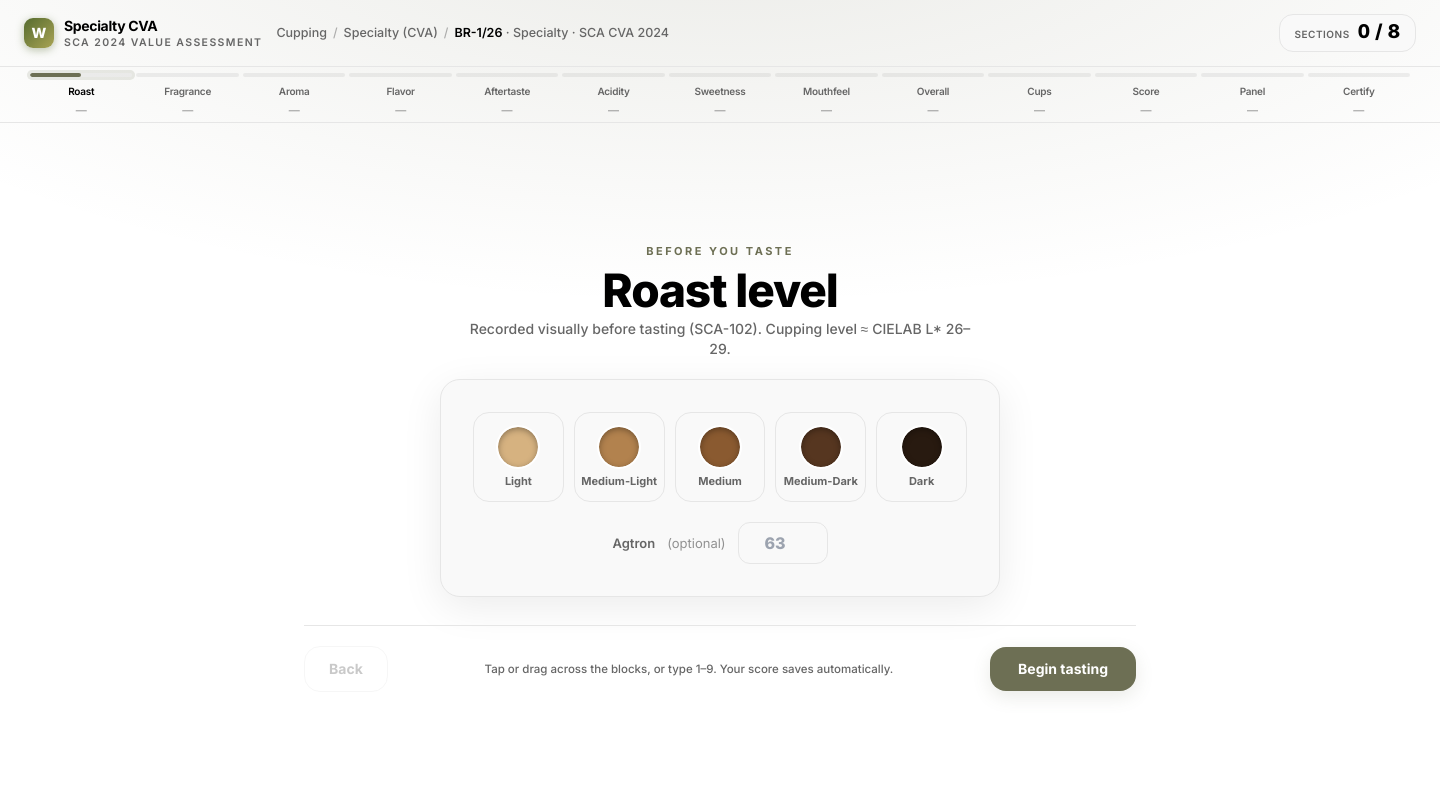
Test case: CvaJourney requires_descriptors reveal soft-gate › the footer "Reveal score" button raises the gate
Expected: the button "Sections 0 / 8" is shown, top-left (1279, 14), bottom-right (1416, 52)
Click the button "Cups —".
click(1039, 94)  # box top-left (986, 67), bottom-right (1093, 122)
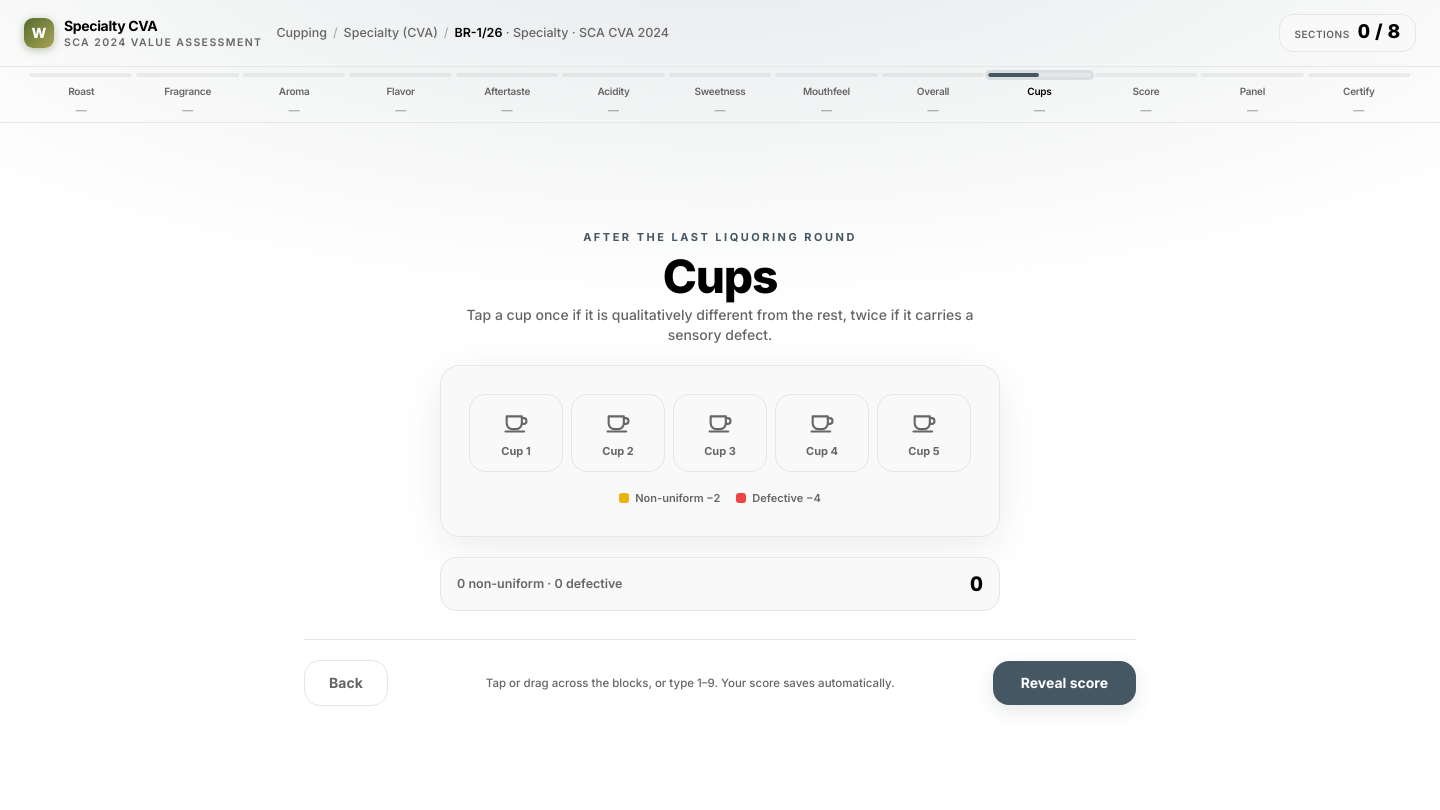
Click the button "Reveal score".
click(1064, 683)  # box top-left (993, 661), bottom-right (1136, 705)
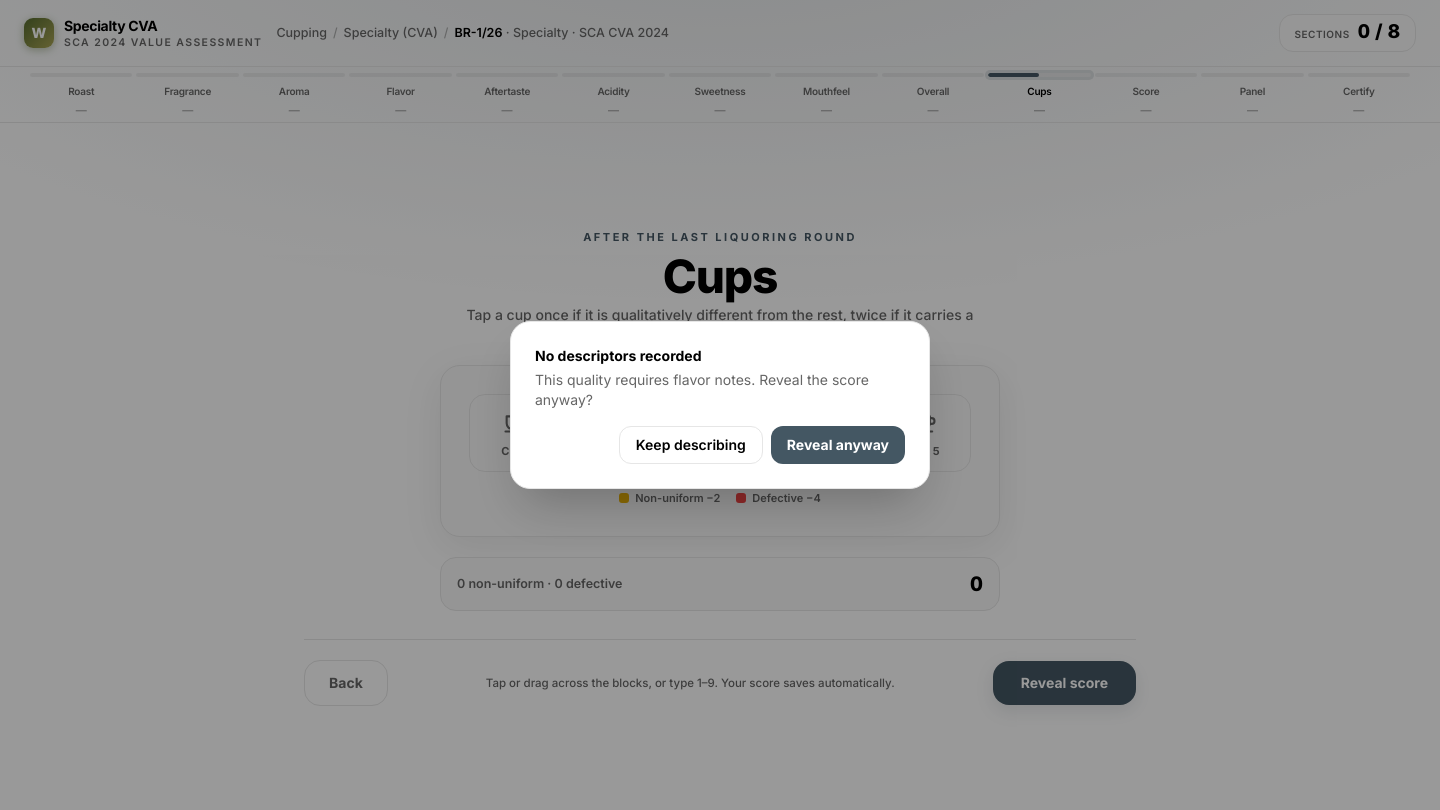
Result: the heading "No descriptors recorded" is shown at top-left (535, 347), bottom-right (702, 364)
